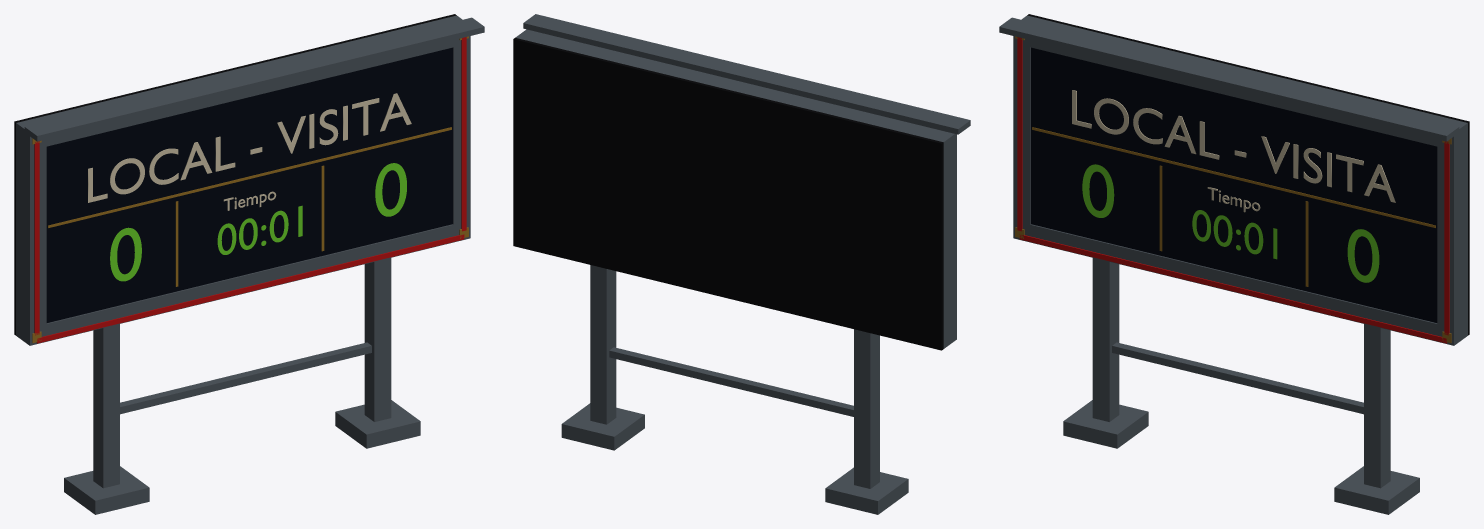
File: scoreboard.obj
3 views of the same model, side by side, from view 1: azimuth 30°, elevation 25°; view 2: azimuth 150°, elevation 25°; view 3: azimuth 330°, elevation 25° (orthographic). The views are drawn at different scales.
Visible parts, largest first — view 1: Screen_Panel_Screen, Scoreboard_Frame_Metal, Scoreboard_Legs_Metal, Details_Visor_Metal, Details_Bands_Red, Scoreboard_Feet_Metal, Screen_Title_White, Screen_Lines_Led, Scoreboard_Back_Plastic, Screen_Clock_numero, Counter_local_numero, Counter_visita_numero; view 2: Scoreboard_Back_Plastic, Scoreboard_Legs_Metal, Details_Visor_Metal, Scoreboard_Frame_Metal, Scoreboard_Feet_Metal; view 3: Screen_Panel_Screen, Scoreboard_Frame_Metal, Scoreboard_Legs_Metal, Details_Visor_Metal, Details_Bands_Red, Scoreboard_Feet_Metal, Screen_Title_White, Screen_Lines_Led, Scoreboard_Back_Plastic, Screen_Clock_numero, Counter_visita_numero, Counter_local_numero.
Boxes of the visible parts, bbox=[...] form: Screen_Panel_Screen: bbox=[46, 47, 452, 322]; Scoreboard_Frame_Metal: bbox=[16, 15, 470, 345]; Scoreboard_Legs_Metal: bbox=[93, 258, 391, 488]; Details_Visor_Metal: bbox=[24, 17, 484, 141]; Details_Bands_Red: bbox=[34, 37, 466, 343]; Scoreboard_Feet_Metal: bbox=[64, 400, 420, 514]; Screen_Title_White: bbox=[88, 93, 411, 202]; Screen_Lines_Led: bbox=[48, 127, 451, 286]; Scoreboard_Back_Plastic: bbox=[14, 14, 456, 335]; Screen_Clock_numero: bbox=[217, 205, 302, 254]; Counter_local_numero: bbox=[110, 227, 141, 281]; Counter_visita_numero: bbox=[375, 163, 406, 216]; Scoreboard_Back_Plastic: bbox=[513, 37, 943, 350]; Scoreboard_Legs_Metal: bbox=[590, 265, 879, 488]; Details_Visor_Metal: bbox=[523, 14, 970, 134]; Scoreboard_Frame_Metal: bbox=[515, 29, 956, 348]; Scoreboard_Feet_Metal: bbox=[561, 403, 908, 514]; Screen_Panel_Screen: bbox=[1031, 47, 1437, 322]; Scoreboard_Frame_Metal: bbox=[1013, 15, 1467, 345]; Scoreboard_Legs_Metal: bbox=[1092, 258, 1390, 488]; Details_Visor_Metal: bbox=[999, 17, 1459, 141]; Details_Bands_Red: bbox=[1017, 37, 1449, 343]; Scoreboard_Feet_Metal: bbox=[1063, 400, 1419, 514]; Screen_Title_White: bbox=[1072, 90, 1395, 202]; Screen_Lines_Led: bbox=[1032, 127, 1435, 286]; Scoreboard_Back_Plastic: bbox=[1027, 14, 1469, 335]; Screen_Clock_numero: bbox=[1192, 210, 1277, 259]; Counter_visita_numero: bbox=[1347, 229, 1379, 282]; Counter_local_numero: bbox=[1082, 164, 1114, 217].
Bounding box in the file's own units: 13.2 × 11.16 × 1.75.
